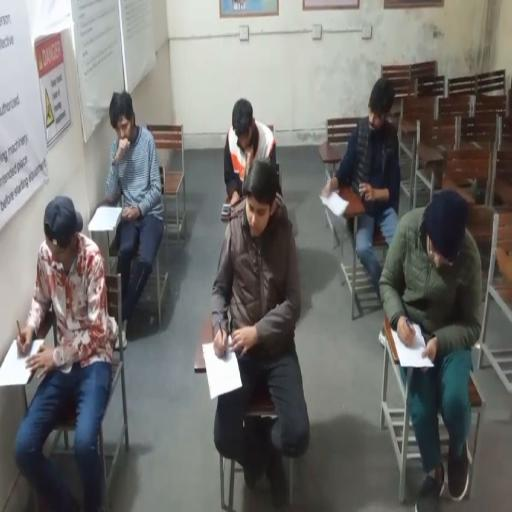paper: (202, 338, 243, 399), (0, 337, 43, 386), (394, 323, 434, 367), (89, 205, 123, 232), (320, 190, 349, 217)
